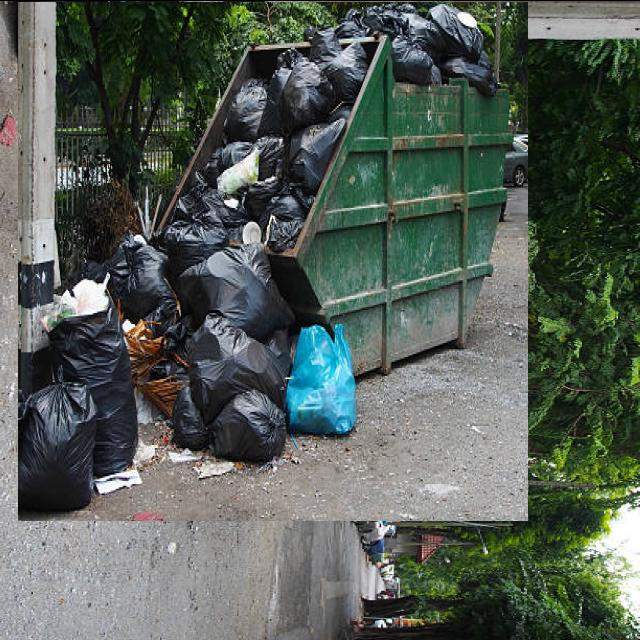garbage: (13, 0, 533, 516)
